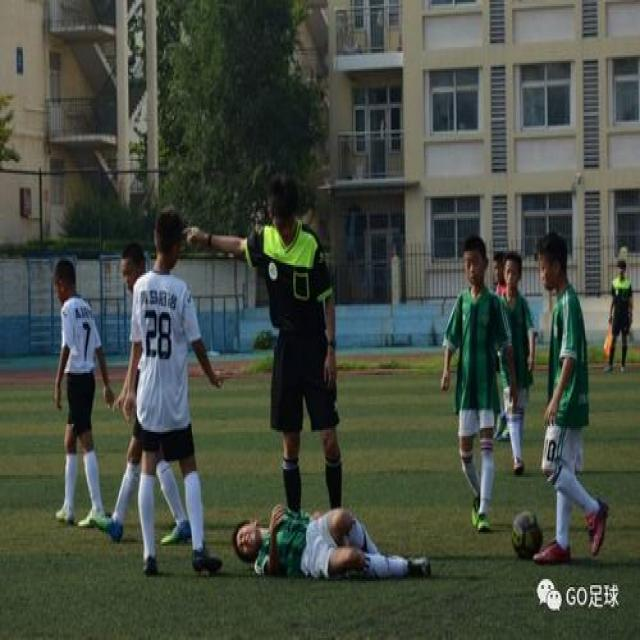10-: (46, 167, 638, 591)
down: (229, 495, 438, 579)
